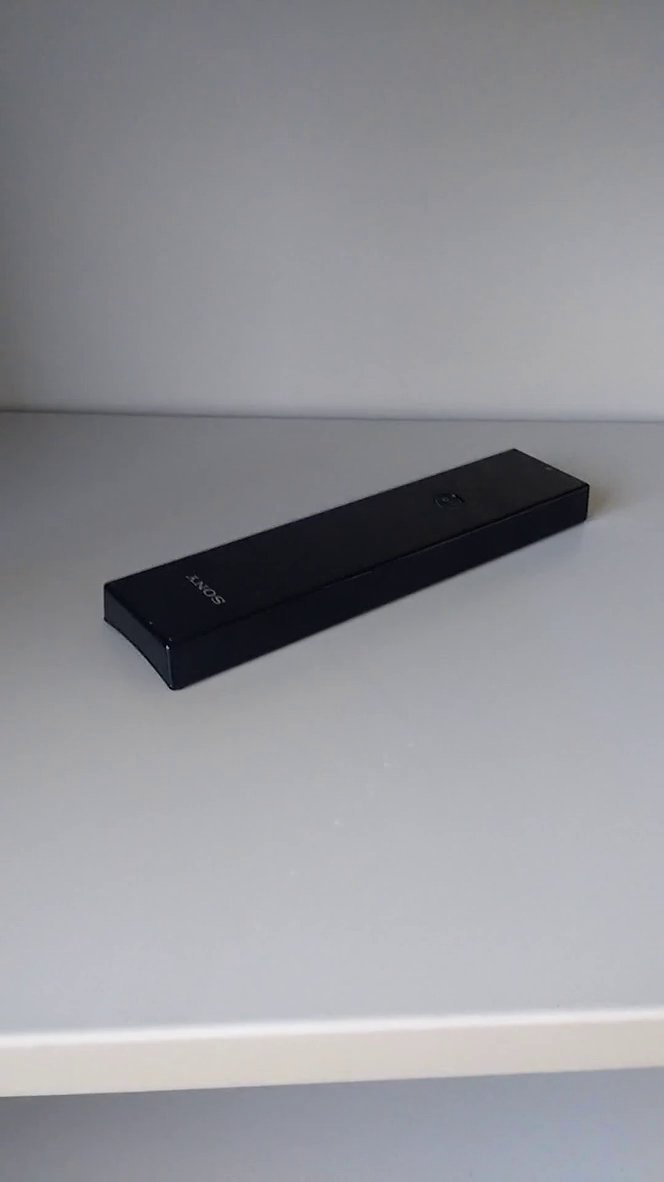remote: (94, 437, 602, 702)
